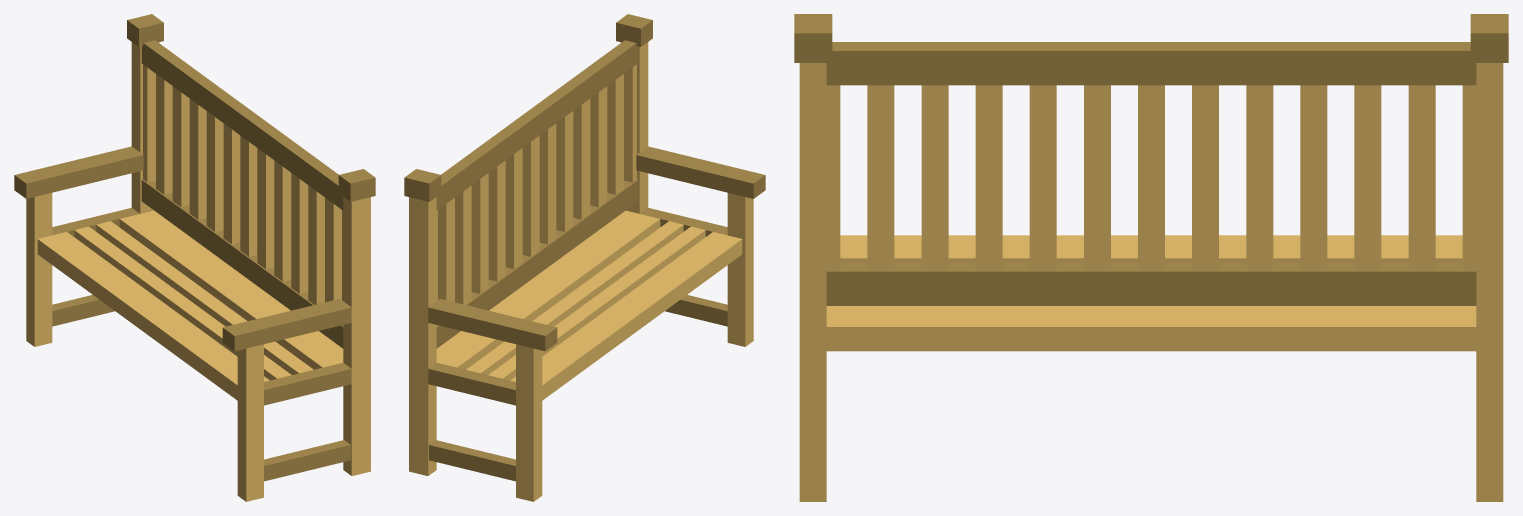
The model's file is bench1.gltf.
The picture shows the model from 3 angles, left to right: view 1: azimuth 30°, elevation 25°; view 2: azimuth 150°, elevation 25°; view 3: azimuth 270°, elevation 25°; orthographic projection. The views are drawn at different scales.
Parts seen in each view (by area): view 1: 7af2856a-f56b-1bfc-209b-daa076292e85, bccd5ce6-e7af-aa34-9afe-e296417a06c1, af0aab9b-c2a3-d645-1e45-ac593a2b32d0, 0a3cfab7-5a5f-e3ca-7a63-968910c07651, 5fedc32b-6d65-db08-a3bf-c0898e0ae89c, 0883bd42-780a-7ee3-cb60-99e27635b315, d1e750eb-49c7-cbb5-6e8a-c75d8e621cbb, babd92fc-acaf-2906-bc7f-d5428a583eb7, 491fd97e-b1da-b2c4-6e8b-3743abcce111, 5603b400-e932-2fbb-b5fd-9ff2d2440b94, b44a5c61-6799-8cba-5618-5bfdd10bda1f, 29638f14-53d2-89a3-58af-09ca5d230022 (+18 smaller); view 2: 7af2856a-f56b-1bfc-209b-daa076292e85, bccd5ce6-e7af-aa34-9afe-e296417a06c1, c145c0d2-d0b2-04d3-1300-1ef1b137cb5c, 0a3cfab7-5a5f-e3ca-7a63-968910c07651, 5fedc32b-6d65-db08-a3bf-c0898e0ae89c, babd92fc-acaf-2906-bc7f-d5428a583eb7, d1e750eb-49c7-cbb5-6e8a-c75d8e621cbb, 0883bd42-780a-7ee3-cb60-99e27635b315, 491fd97e-b1da-b2c4-6e8b-3743abcce111, 5603b400-e932-2fbb-b5fd-9ff2d2440b94, b44a5c61-6799-8cba-5618-5bfdd10bda1f, 15eb0b86-8ddf-5359-8836-addb5c3b983a (+18 smaller); view 3: bccd5ce6-e7af-aa34-9afe-e296417a06c1, 0a3cfab7-5a5f-e3ca-7a63-968910c07651, 5fedc32b-6d65-db08-a3bf-c0898e0ae89c, c145c0d2-d0b2-04d3-1300-1ef1b137cb5c, af0aab9b-c2a3-d645-1e45-ac593a2b32d0, 7af2856a-f56b-1bfc-209b-daa076292e85, fa14daf2-4c38-995c-d357-2d79fea9ce94, 188dc0ba-f828-9213-bfd6-ff3bdaa87d0f, 60430d37-bd65-6613-d115-23544d0b9728, 3942196b-a77d-e19f-05df-a13614c13e06, a7a5f56e-af32-4393-fad1-d66d5eb70196, 7466fd51-01d8-267f-6a5f-de203003dc23 (+9 smaller).
Part boxes in pixels (x1,y1,x2,y2): 7af2856a-f56b-1bfc-209b-daa076292e85: [37, 232, 269, 400]; bccd5ce6-e7af-aa34-9afe-e296417a06c1: [119, 210, 343, 369]; af0aab9b-c2a3-d645-1e45-ac593a2b32d0: [343, 197, 370, 475]; 0a3cfab7-5a5f-e3ca-7a63-968910c07651: [141, 40, 343, 210]; 5fedc32b-6d65-db08-a3bf-c0898e0ae89c: [141, 179, 343, 348]; 0883bd42-780a-7ee3-cb60-99e27635b315: [237, 344, 263, 501]; d1e750eb-49c7-cbb5-6e8a-c75d8e621cbb: [96, 221, 313, 374]; babd92fc-acaf-2906-bc7f-d5428a583eb7: [26, 193, 52, 346]; 491fd97e-b1da-b2c4-6e8b-3743abcce111: [74, 226, 291, 380]; 5603b400-e932-2fbb-b5fd-9ff2d2440b94: [14, 146, 143, 198]; b44a5c61-6799-8cba-5618-5bfdd10bda1f: [222, 299, 351, 351]; 29638f14-53d2-89a3-58af-09ca5d230022: [264, 362, 351, 405]; 7af2856a-f56b-1bfc-209b-daa076292e85: [510, 232, 742, 400]; bccd5ce6-e7af-aa34-9afe-e296417a06c1: [436, 210, 660, 369]; c145c0d2-d0b2-04d3-1300-1ef1b137cb5c: [409, 197, 436, 475]; 0a3cfab7-5a5f-e3ca-7a63-968910c07651: [436, 40, 638, 210]; 5fedc32b-6d65-db08-a3bf-c0898e0ae89c: [436, 179, 638, 348]; babd92fc-acaf-2906-bc7f-d5428a583eb7: [516, 344, 542, 501]; d1e750eb-49c7-cbb5-6e8a-c75d8e621cbb: [466, 221, 683, 374]; 0883bd42-780a-7ee3-cb60-99e27635b315: [727, 193, 753, 346]; 491fd97e-b1da-b2c4-6e8b-3743abcce111: [488, 226, 705, 380]; 5603b400-e932-2fbb-b5fd-9ff2d2440b94: [428, 299, 557, 351]; b44a5c61-6799-8cba-5618-5bfdd10bda1f: [636, 146, 765, 198]; 15eb0b86-8ddf-5359-8836-addb5c3b983a: [428, 362, 515, 405]; bccd5ce6-e7af-aa34-9afe-e296417a06c1: [826, 306, 1476, 351]; 0a3cfab7-5a5f-e3ca-7a63-968910c07651: [826, 42, 1476, 85]; 5fedc32b-6d65-db08-a3bf-c0898e0ae89c: [826, 262, 1476, 305]; c145c0d2-d0b2-04d3-1300-1ef1b137cb5c: [1476, 63, 1503, 501]; af0aab9b-c2a3-d645-1e45-ac593a2b32d0: [799, 63, 826, 501]; 7af2856a-f56b-1bfc-209b-daa076292e85: [840, 235, 1462, 262]; fa14daf2-4c38-995c-d357-2d79fea9ce94: [1408, 85, 1435, 270]; 188dc0ba-f828-9213-bfd6-ff3bdaa87d0f: [1354, 85, 1381, 270]; 60430d37-bd65-6613-d115-23544d0b9728: [1300, 85, 1327, 270]; 3942196b-a77d-e19f-05df-a13614c13e06: [1246, 85, 1273, 270]; a7a5f56e-af32-4393-fad1-d66d5eb70196: [867, 85, 894, 270]; 7466fd51-01d8-267f-6a5f-de203003dc23: [921, 85, 948, 270].
Bounding box in the file's own units: 0.5938 × 1.2 × 1.65.
2 materials, 2 textured.
